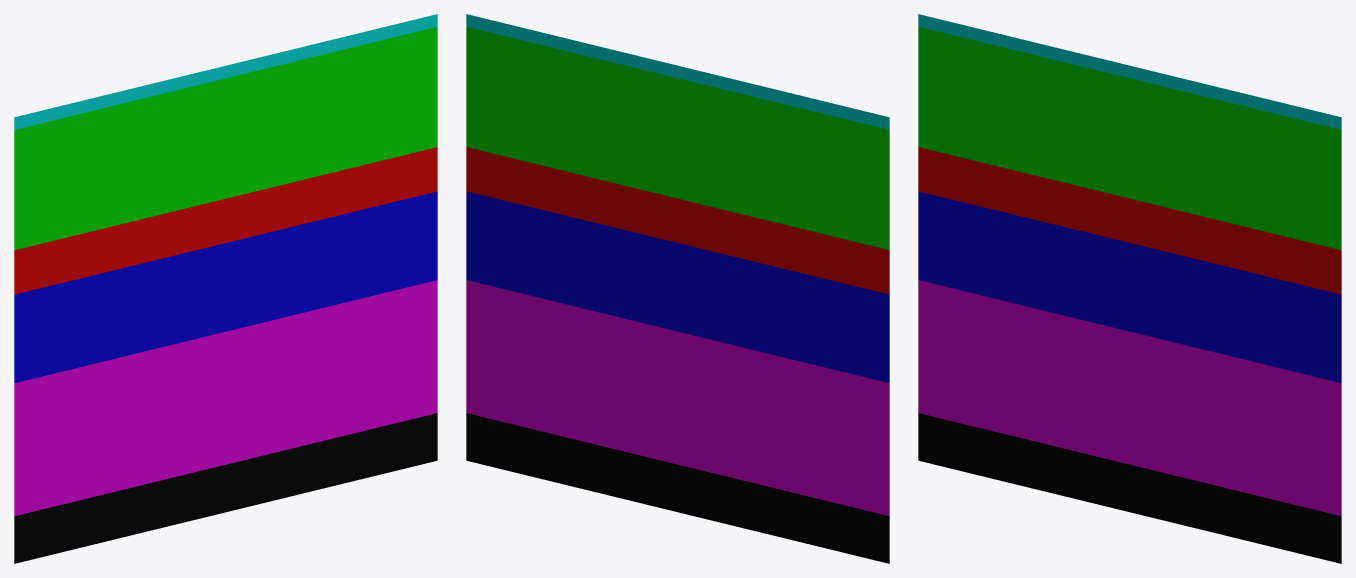
The model's file is Trim_4_low.fbx.
3 views of the same model, side by side, from view 1: azimuth 30°, elevation 25°; view 2: azimuth 150°, elevation 25°; view 3: azimuth 330°, elevation 25° (orthographic).
Parts seen in each view (by area): view 1: Trim_4_low; view 2: Trim_4_low; view 3: Trim_4_low.
Part boxes in pixels (bbox=[...]): Trim_4_low: bbox=[14, 14, 437, 563]; Trim_4_low: bbox=[466, 14, 889, 563]; Trim_4_low: bbox=[918, 14, 1341, 563].
Bounding box in the file's own units: 394 × 397 × 2.84e-14.
